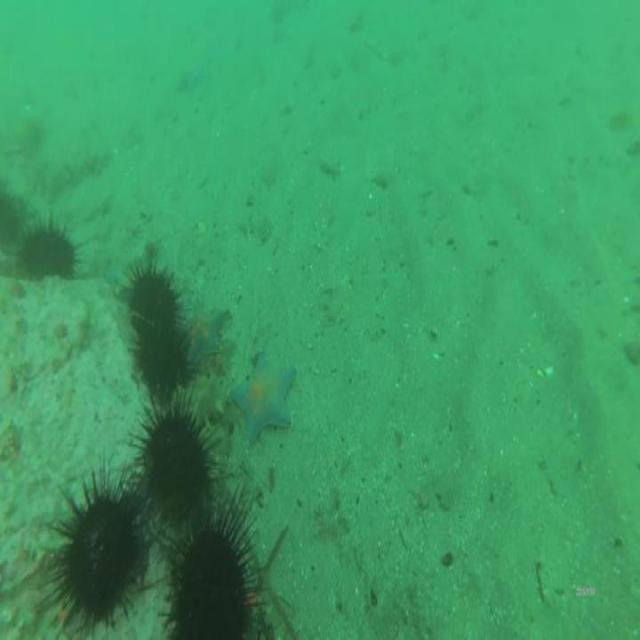echinus: (57, 492, 140, 616), (167, 529, 254, 640), (145, 401, 210, 517), (136, 324, 185, 398), (124, 262, 180, 324), (18, 229, 77, 283)
starfish: (228, 351, 294, 442), (186, 297, 226, 362)
